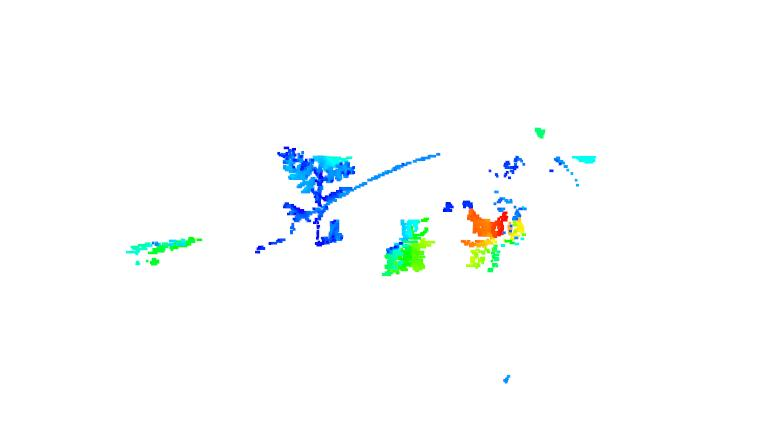chickpea: (275, 147, 356, 249), (457, 199, 537, 279), (131, 228, 207, 278), (378, 216, 436, 280)
